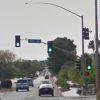Car: (35, 79, 55, 97)
